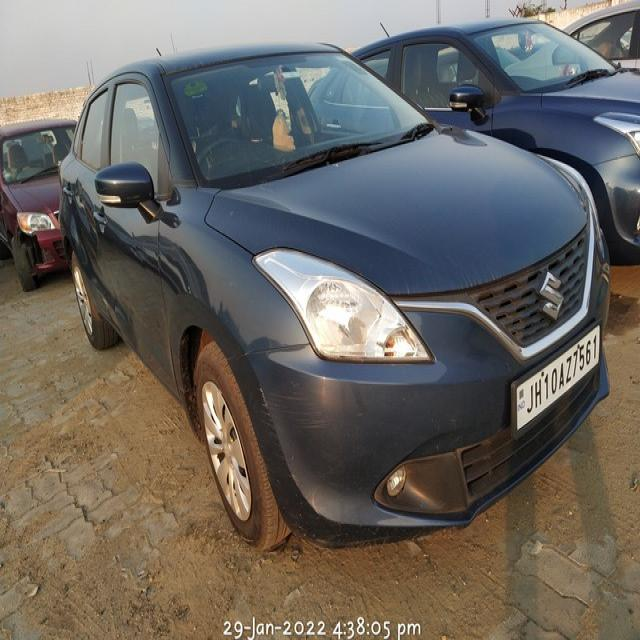damage: (249, 379, 321, 436)
